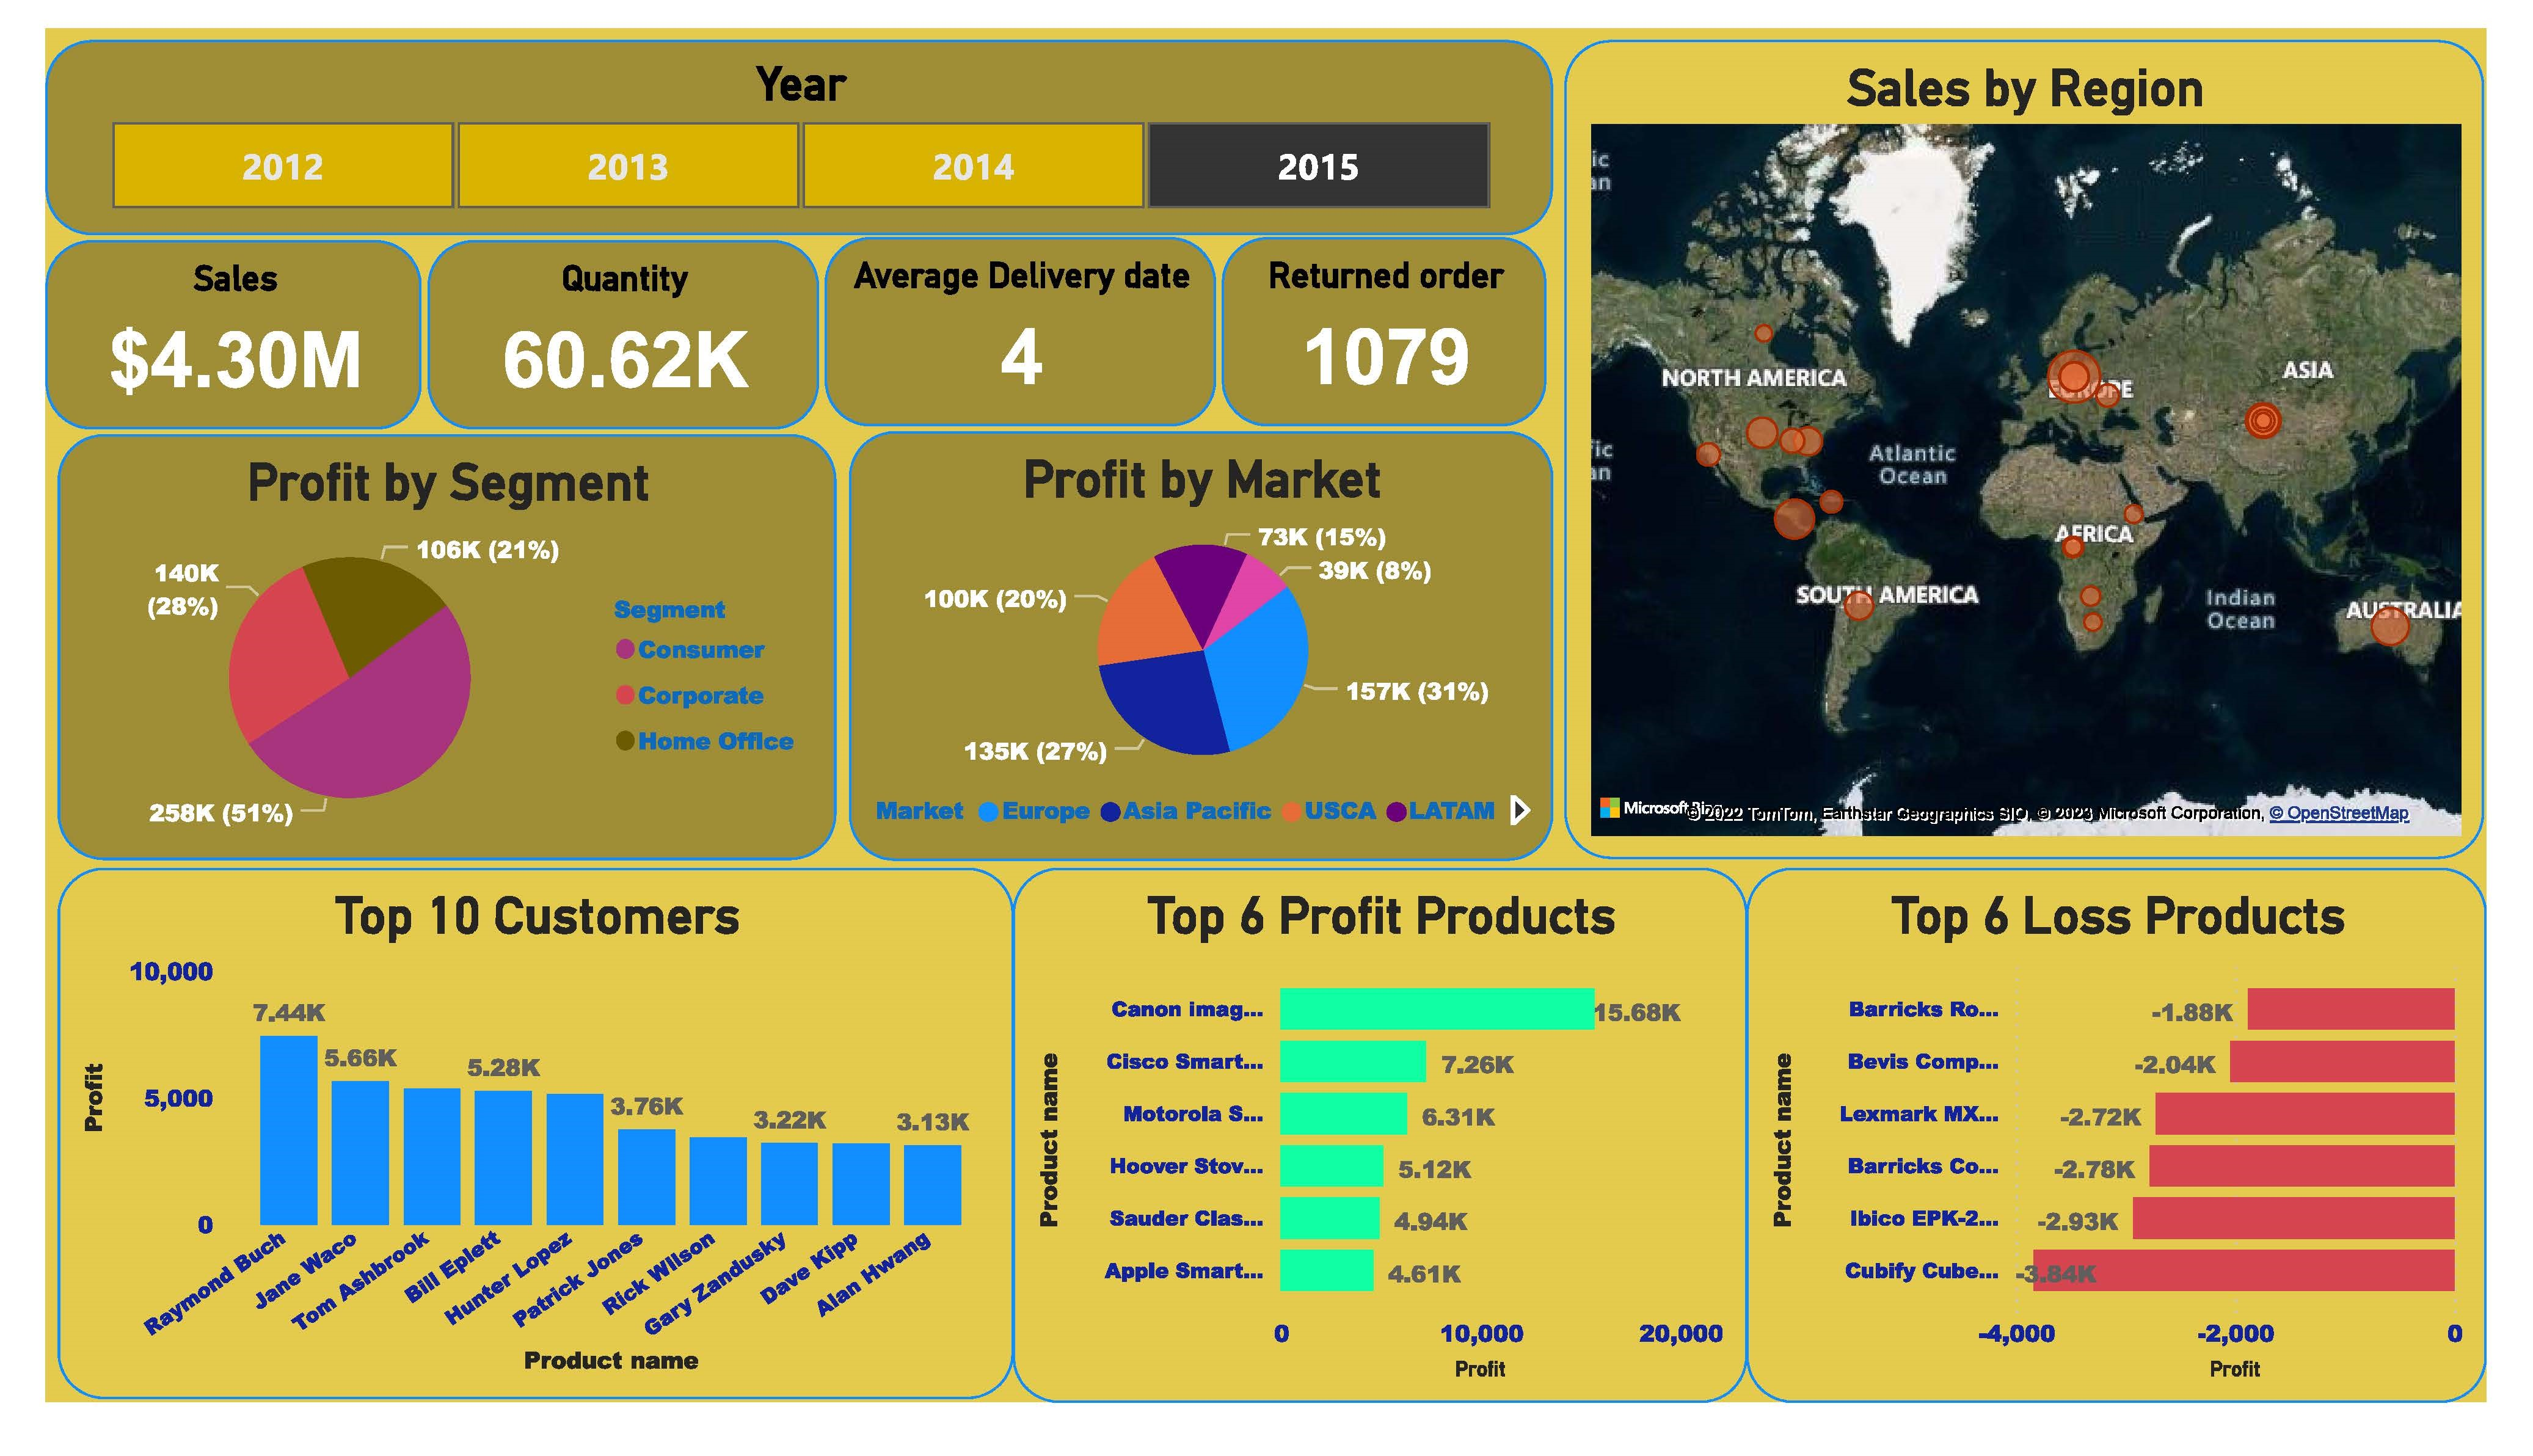

The dashboard page shown, as its layout file describes it:
{"tool":"powerbi","page":{"name":"Page 1","canvas":[1280,720],"ordinal":0},"visuals":[{"type":"card","title":"Sales","fields":{"Values":["Orders.Sales"]},"box":[0,111.3,197.1,98.5],"z":0},{"type":"card","title":"Quantity","fields":{"Values":["Orders.Quantity"]},"box":[200.3,111.3,205,98.5],"z":1000},{"type":"card","title":"Average Delivery date","fields":{"Values":["Orders.Delivery date"]},"box":[408.5,109.7,205,98.5],"z":2000},{"type":"card","title":"Returned order","fields":{"Values":["Returns.Return orders"]},"box":[616.7,109.7,170.1,98.5],"z":3000},{"type":"map","fields":{"Size":["Orders.Sales"],"Category":["Orders.Region"]},"box":[796.3,6.4,481.6,429.1],"z":4000},{"type":"barChart","title":"Top 6 Profit Products","fields":{"Category":["Orders.Product Name"],"Y":["Orders.Profit"]},"box":[507,440.3,384.6,279.7],"z":5000},{"type":"barChart","title":"Top 6 Loss Products","fields":{"Category":["Orders.Product Name"],"Y":["Orders.Profit"]},"box":[891.7,440.3,387.8,279.7],"z":6000},{"type":"pieChart","fields":{"Category":["Orders.Segment"],"Y":["Orders.Profit"]},"box":[6.2,212.4,407.6,223.3],"z":7000},{"type":"pieChart","fields":{"Y":["Orders.Profit"],"Category":["Orders.Market"]},"box":[421.7,210.8,368.6,224.9],"z":8000},{"type":"clusteredColumnChart","title":"Top 10 Customers","fields":{"Category":["Orders.Customer Name"],"Y":["Orders.Profit"]},"box":[6.4,440.3,501,278.1],"z":9000},{"type":"slicer","title":"Year","fields":{"Values":["Orders.YEAR"]},"box":[0,6.4,789.9,101.7],"z":10000}]}

Visuals, with their boxes in screenshot pixels (x1, y1, x2, y2), scaled from the page's 1280x720 canvas onto the 2533x1456 screenshot:
"Sales" card: 0, 225, 390, 424
"Quantity" card: 396, 225, 802, 424
"Average Delivery date" card: 808, 222, 1214, 421
"Returned order" card: 1220, 222, 1557, 421
map - Orders.Sales x Orders.Region: 1576, 13, 2529, 881
"Top 6 Profit Products" barChart: 1004, 890, 1765, 1455
"Top 6 Loss Products" barChart: 1765, 890, 2532, 1455
pieChart - Orders.Segment x Orders.Profit: 12, 429, 819, 881
pieChart - Orders.Profit x Orders.Market: 834, 426, 1564, 881
"Top 10 Customers" clusteredColumnChart: 13, 890, 1004, 1453
"Year" slicer: 0, 13, 1563, 219
